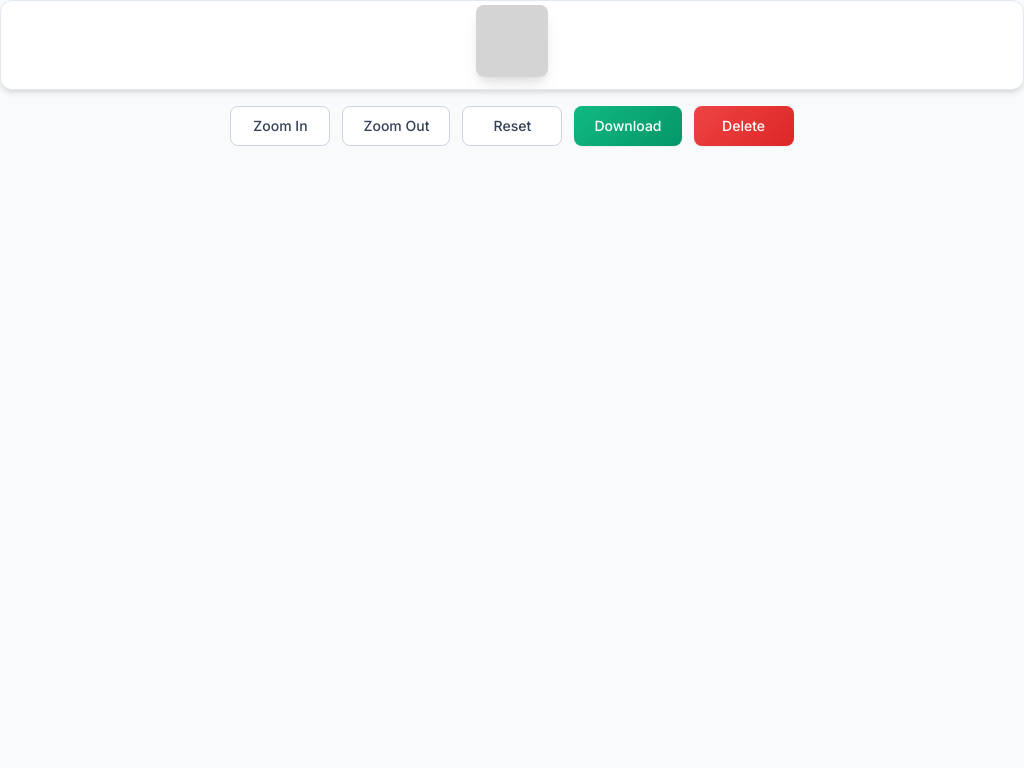
Test case: ImageDisplay › Delete Functionality › delete modal closes when cancel is clicked
Click the button "Delete".
click(744, 126)  # box [694, 106, 794, 146]
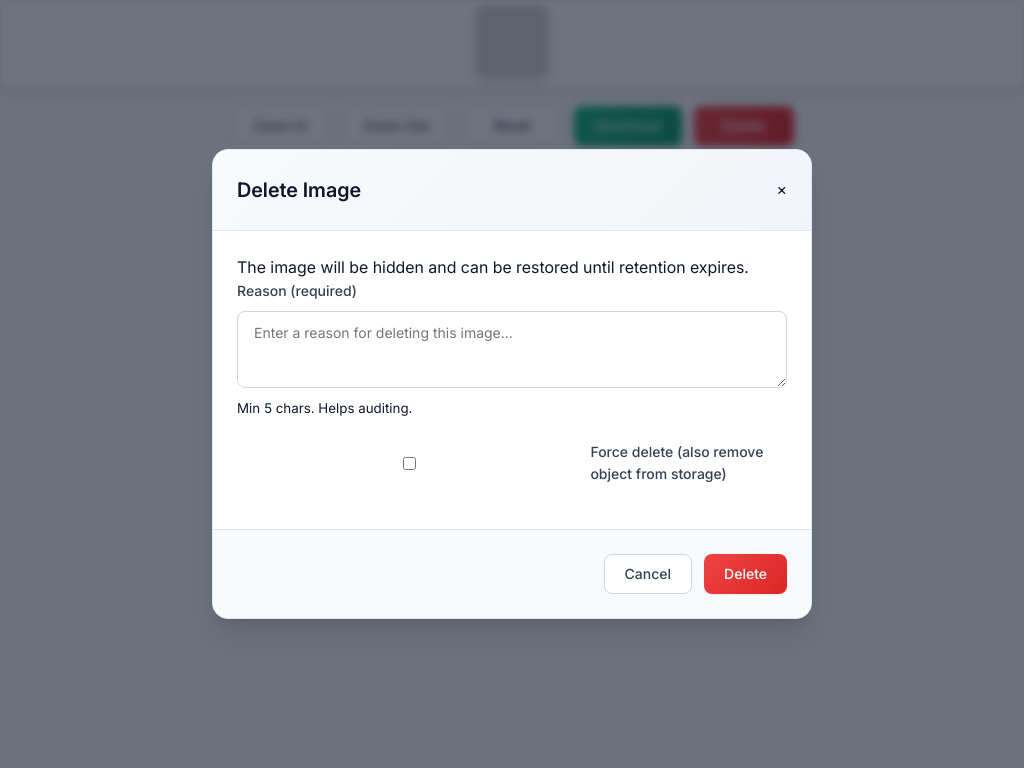
Expected: the heading "Delete Image" is shown, [237, 174, 361, 206]
Click the button "Cancel".
click(648, 574)  # box [604, 554, 692, 594]
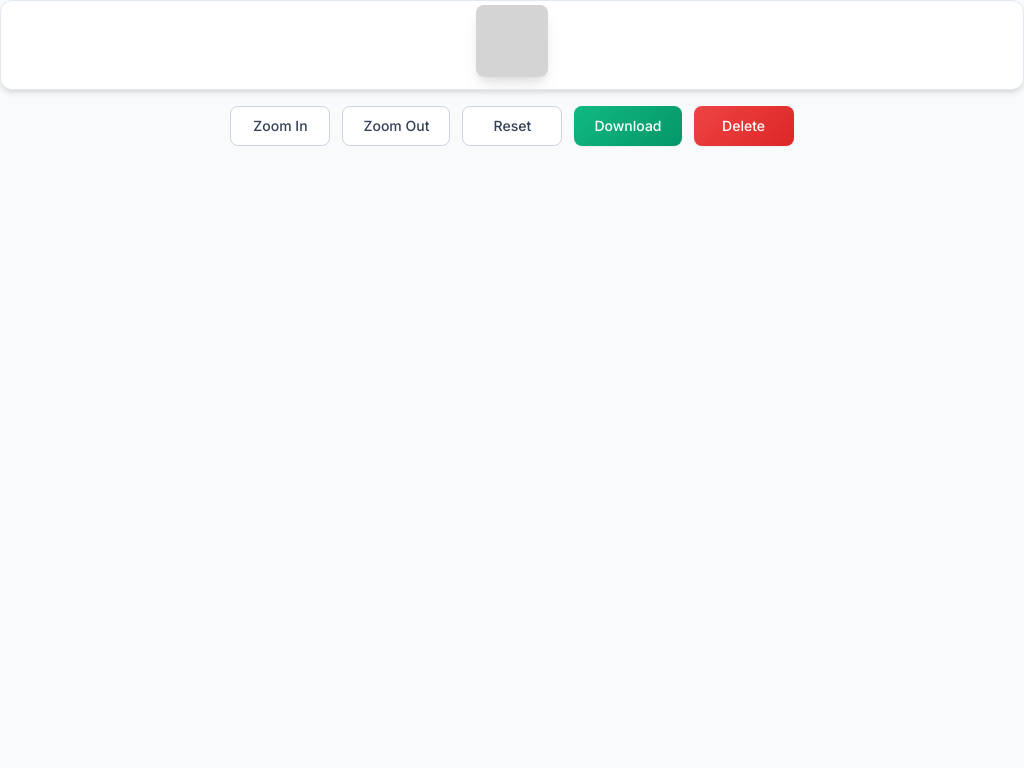
Expected: the heading "Delete Image" is gone
